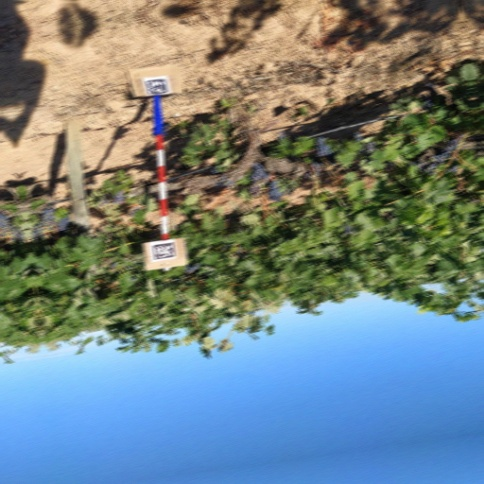QR: (151, 239, 176, 259), (145, 76, 167, 95)
